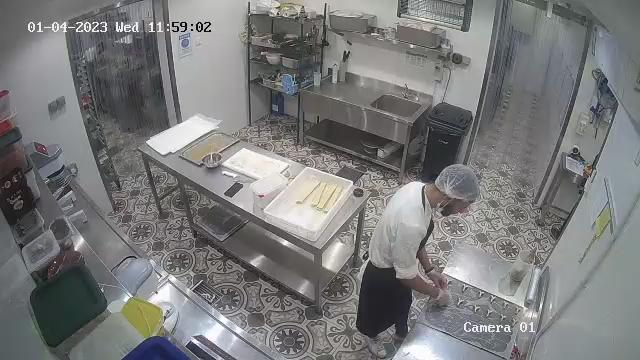no_apron: (358, 178, 448, 283)
